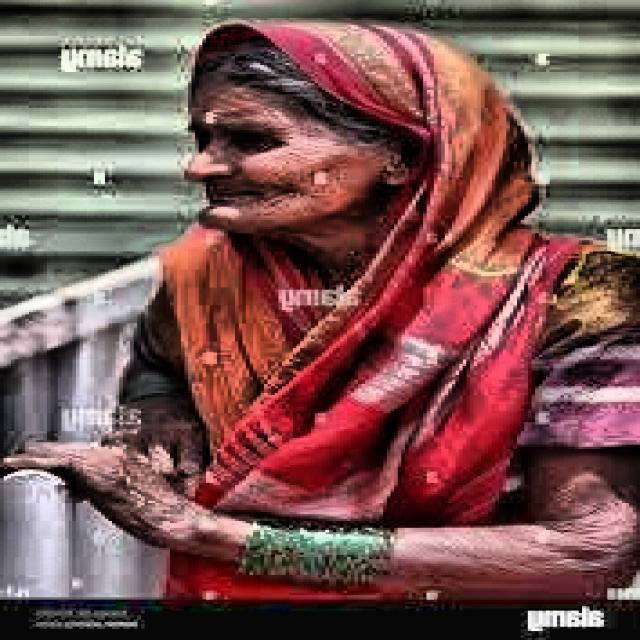Human: (70, 0, 640, 621)
